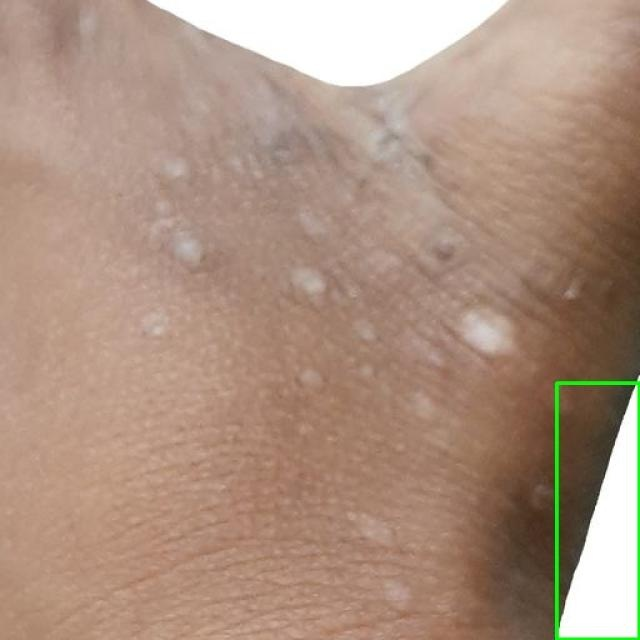Scabies: (556, 382, 639, 639)
